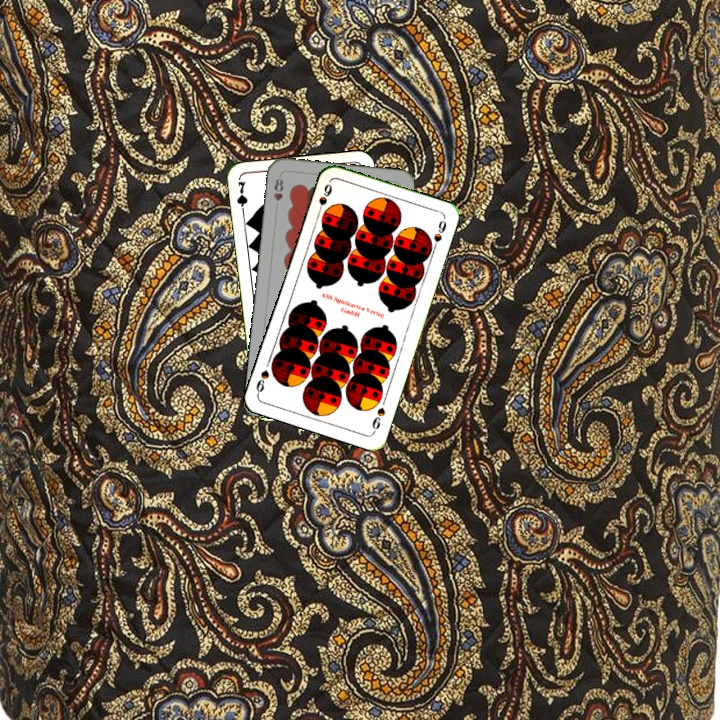G7: (233, 177, 250, 218)
H8: (270, 172, 286, 212)
S9: (313, 180, 335, 218), (368, 403, 388, 435)
